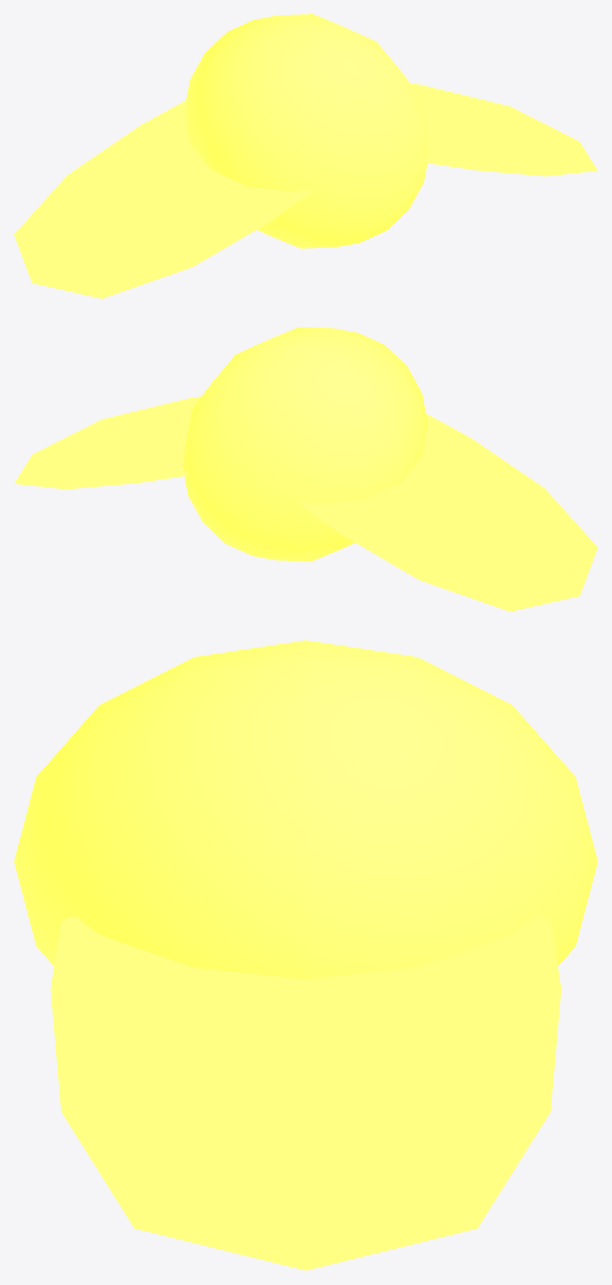
Rendered from firefly.glb.
3 views of the same model, one above another, from view 1: azimuth 30°, elevation 25°; view 2: azimuth 150°, elevation 25°; view 3: azimuth 270°, elevation 25° (orthographic). The views are drawn at different scales.
Visible parts, largest first — view 1: firefly; view 2: firefly; view 3: firefly.
Boxes of the visible parts, x1,y1,x2,y2 form: firefly: (14,14,597,298); firefly: (14,327,597,611); firefly: (14,640,597,1270).
Bounding box in the file's own units: 0.3464 × 0.1245 × 0.164.
